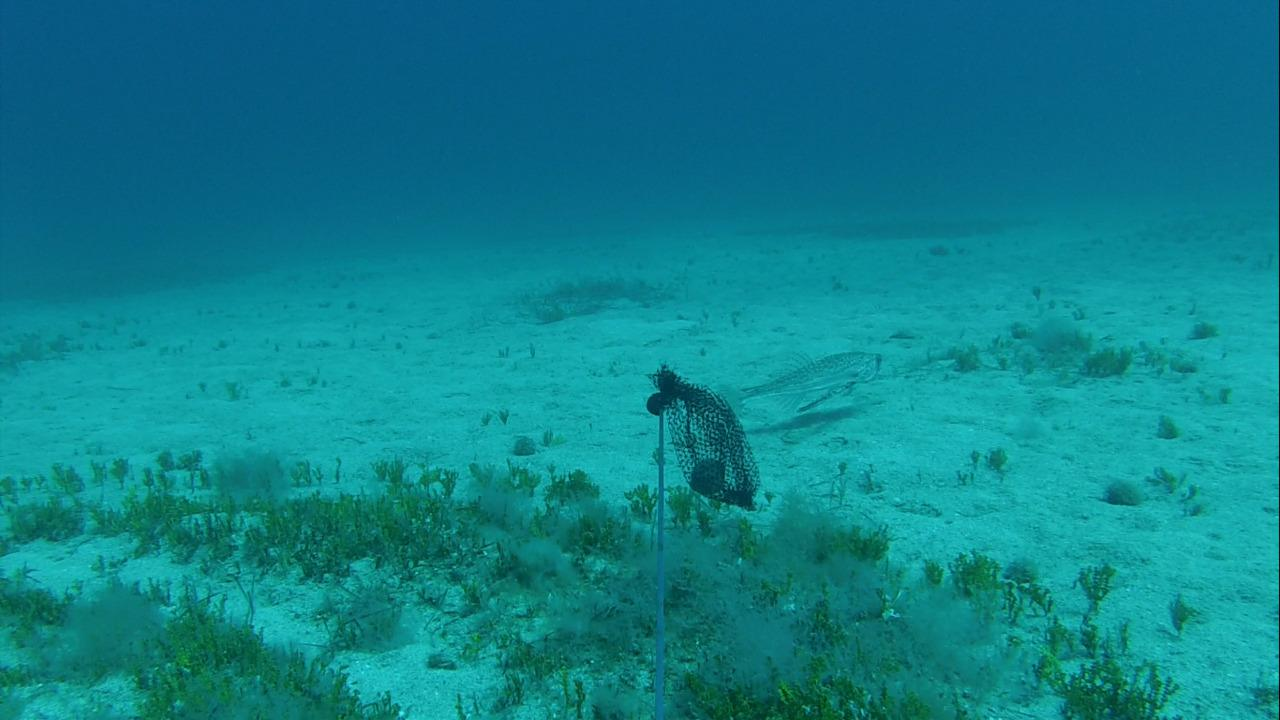dactylopterus: (735, 345, 889, 417)
